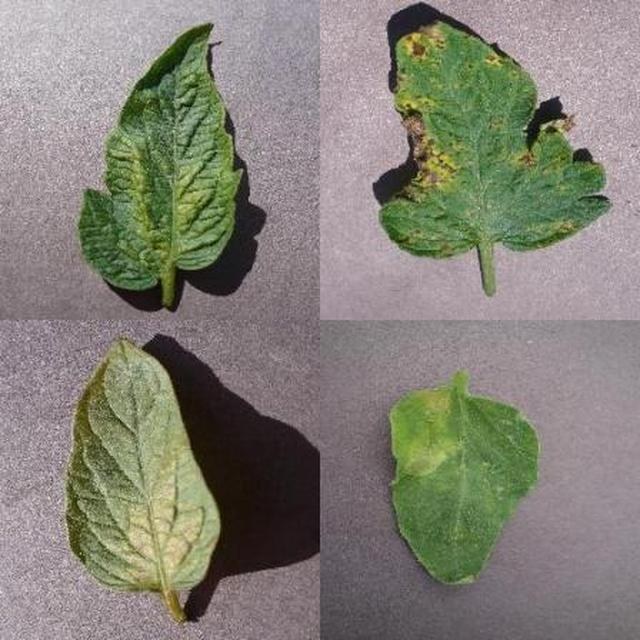Spider Mites Leaf: (204, 200, 640, 640)
